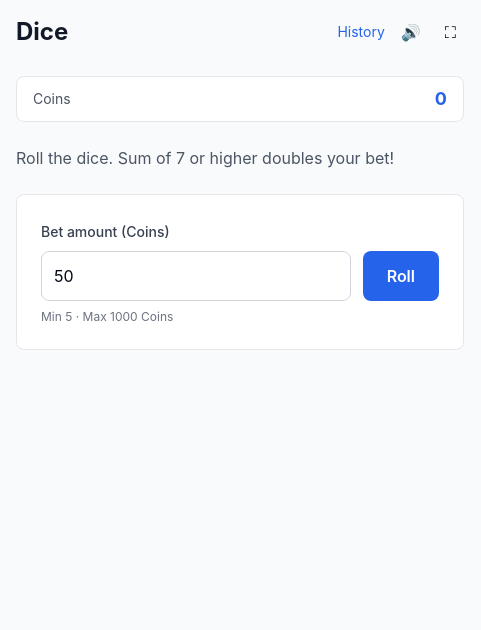
Test: DiceGamePage › a successful play settles the round and shows the server result
Click the button "Roll" at point(401, 276), box [363,251,439,301]
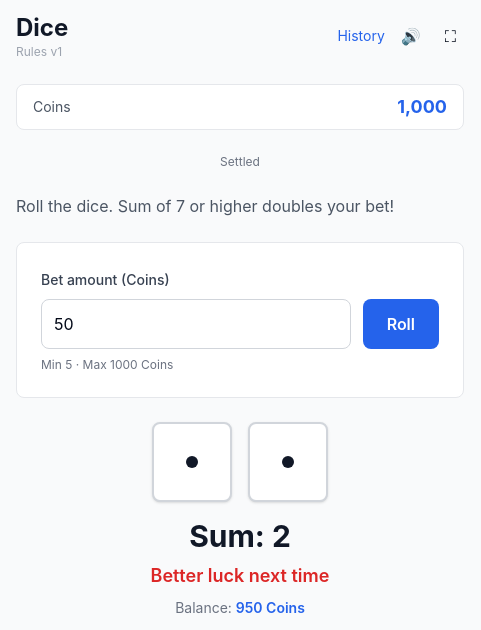
Check: the text "Sum: 2" is shown, box [189,518,291,554]
